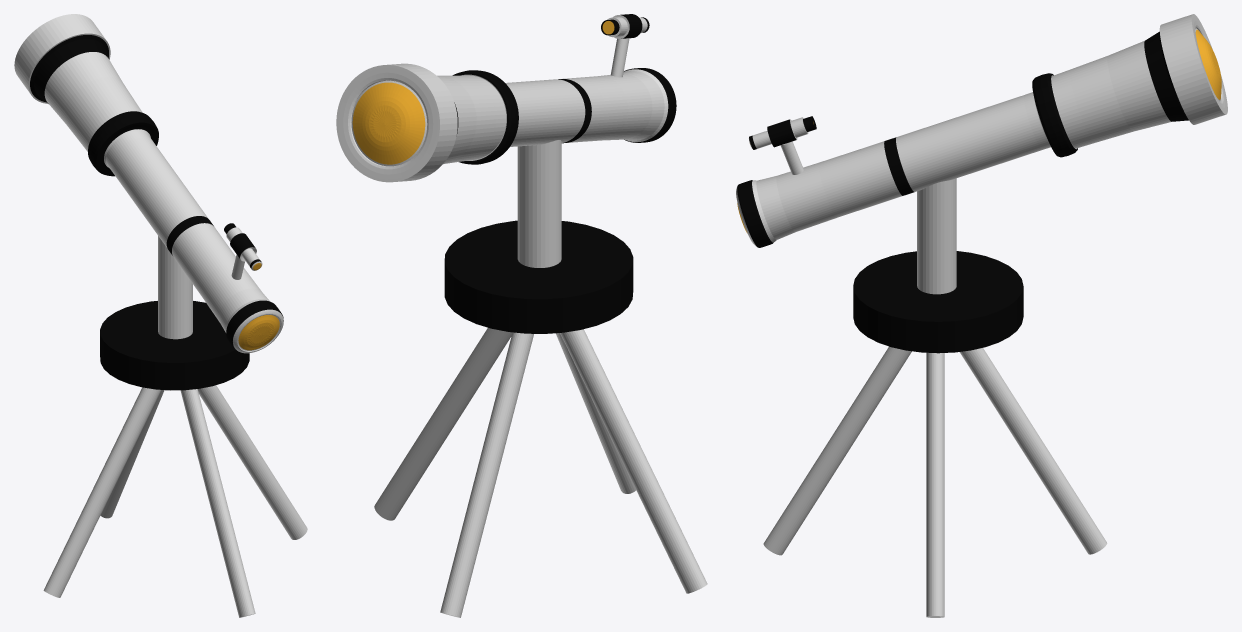
File: telescope.fbx
3 views of the same model, side by side, from view 1: azimuth 30°, elevation 25°; view 2: azimuth 150°, elevation 25°; view 3: azimuth 270°, elevation 25° (orthographic). The views are drawn at different scales.
Visible parts, largest first — view 1: Cylinder.004; view 2: Cylinder.004; view 3: Cylinder.004.
Boxes of the visible parts, left/top/right/bottom form: Cylinder.004: left=14, top=14, right=307, bottom=617; Cylinder.004: left=336, top=14, right=707, bottom=617; Cylinder.004: left=736, top=14, right=1227, bottom=617.
Size of the model in its own units: 646 by 1108 by 923.
